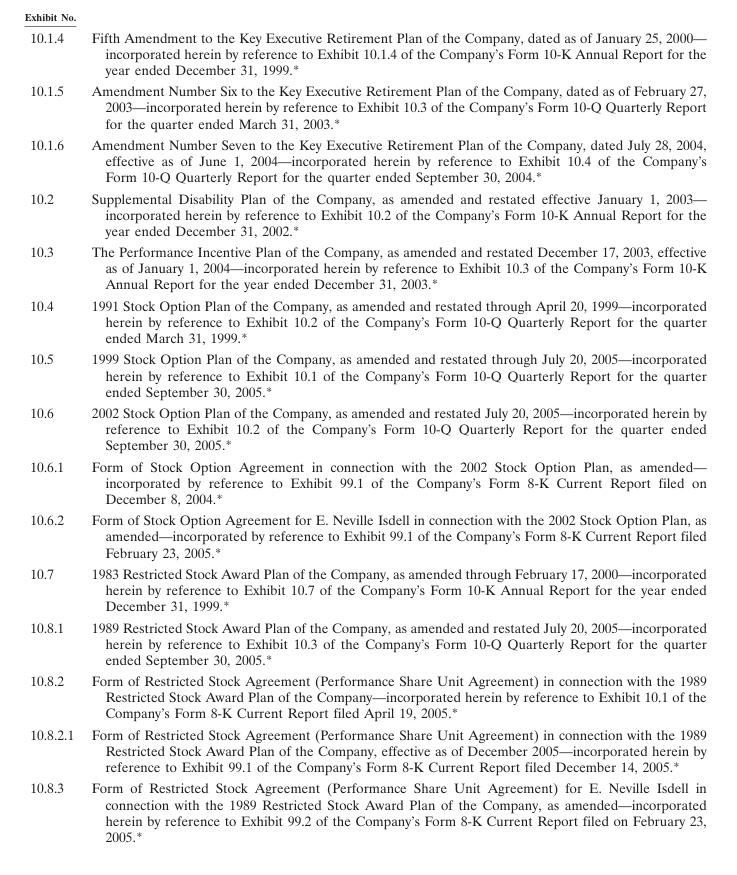table: (29, 28, 705, 844)
table column: (82, 28, 705, 844), (29, 28, 82, 844)
table row: (29, 776, 705, 844), (29, 79, 705, 133), (29, 133, 705, 187), (29, 240, 705, 294), (29, 347, 705, 401), (29, 401, 705, 455), (29, 508, 705, 562), (29, 562, 705, 616), (29, 669, 705, 723), (29, 187, 705, 240), (29, 294, 705, 347), (29, 455, 705, 508), (29, 616, 705, 669), (29, 723, 705, 776), (29, 28, 705, 79)
